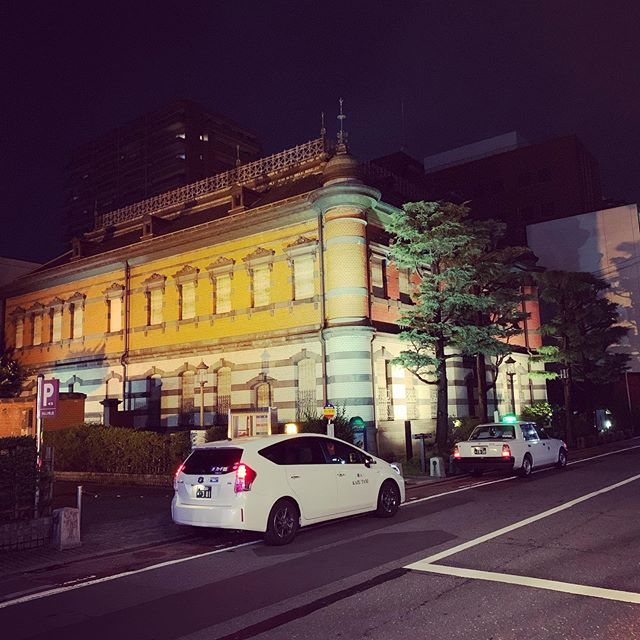building: (13, 172, 542, 434), (62, 106, 267, 243)
car: (156, 431, 410, 549), (438, 414, 576, 488)
sky: (8, 4, 635, 184)
street: (19, 439, 639, 636)
